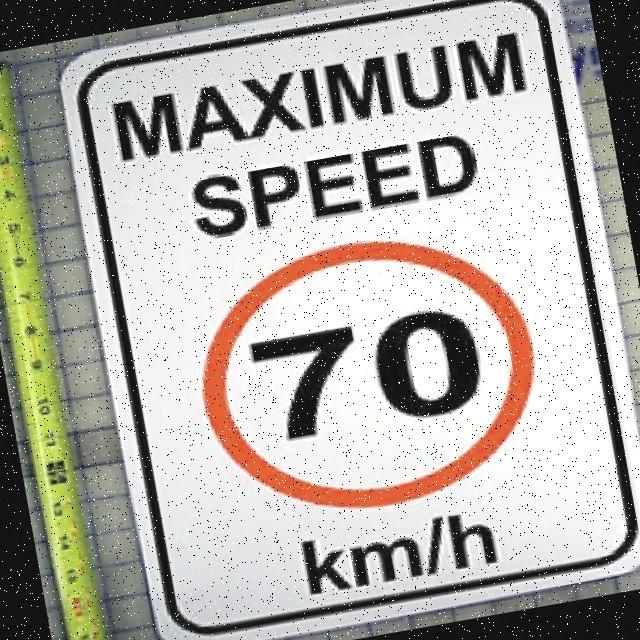Ograniczenie predkosci do 70: (176, 208, 553, 540)
